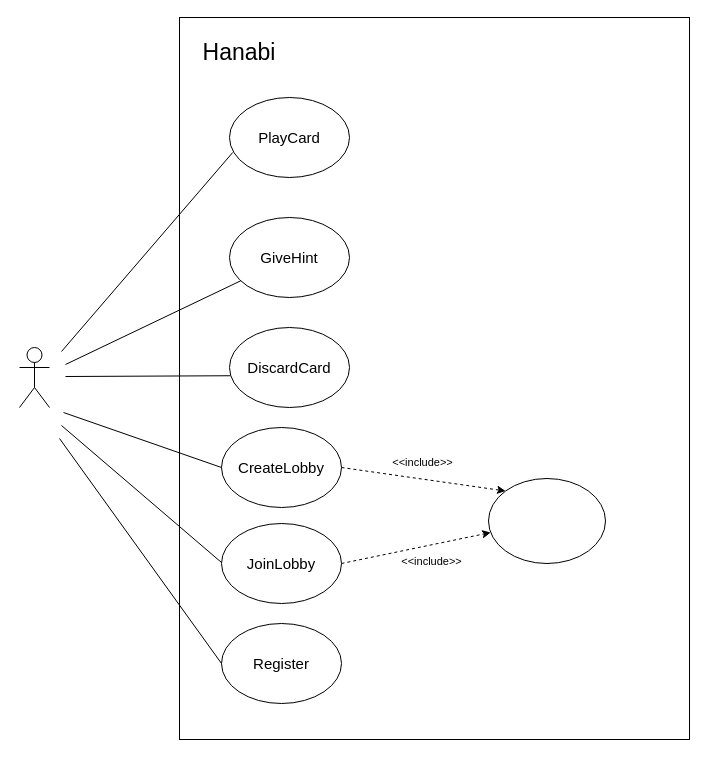
Some shapes in this 707 by 757 pixel diagram are drawn without their labels. Here are the shapes that lost their labels. From the top down, the box of each, then its label:
(18, 346, 50, 408): User
(488, 478, 606, 564): Login
